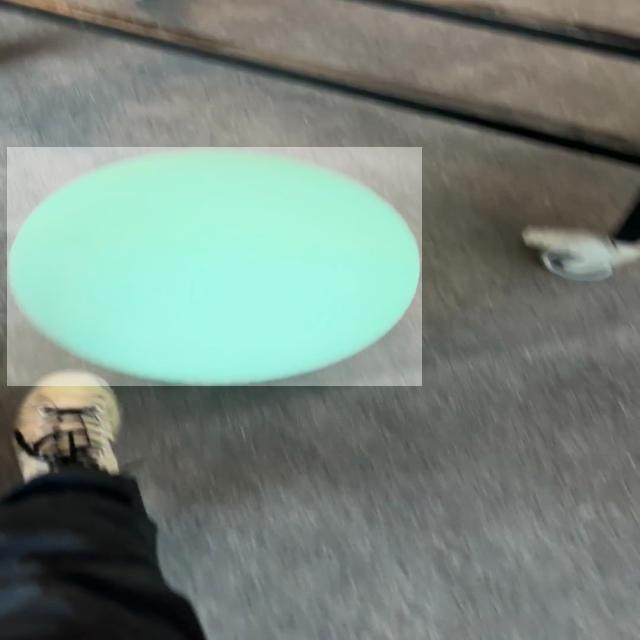Algae: (7, 147, 422, 386)
